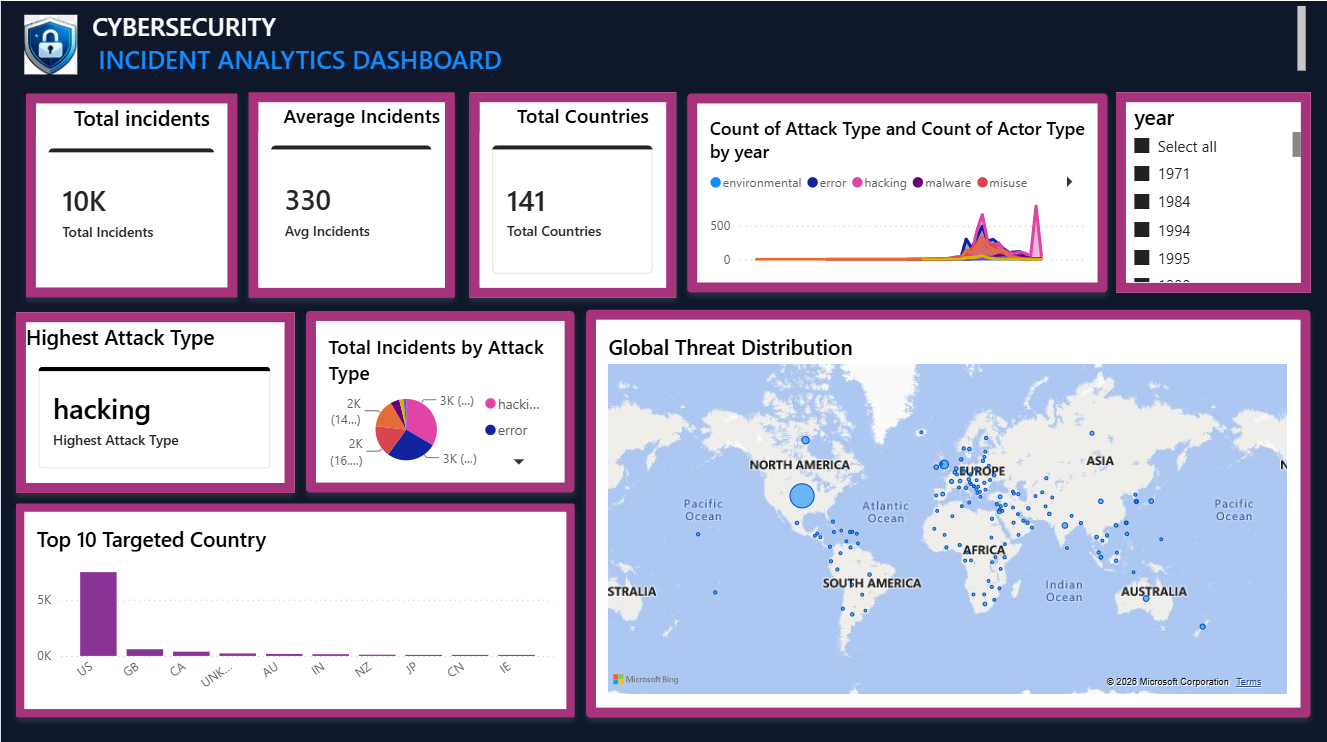

What the dashboard file says about the page in this screenshot:
{"tool":"powerbi","page":{"name":"Executive Summary","canvas":[1280,720],"ordinal":0},"visuals":[{"type":"textbox","box":[9.7,0,1254.7,74.8],"z":0},{"type":"pieChart","fields":{"Category":["result.Attack Type"],"Y":["result.Total Incidents"]},"box":[294.2,298.8,259.3,175.6],"z":1000},{"type":"clusteredColumnChart","title":"Top 10 Targeted Country","fields":{"Category":["result.Country"],"Y":["result.Total Incidents"]},"box":[14.5,485,539.3,206.3],"z":2000},{"type":"map","title":"Global Threat Distribution","fields":{"Size":["result.Total Incidents"],"Category":["result.Country"]},"box":[564.9,298.4,699.5,393.8],"z":3000},{"type":"cardVisual","title":"Total Countries","fields":{"Data":["result.Total Countries"]},"box":[452.4,88,199.3,198.1],"z":4000},{"type":"cardVisual","title":" Highest Attack Type","fields":{"Data":["result.Highest Attack Type"]},"box":[14.7,299.9,268.4,174.1],"z":5000},{"type":"areaChart","title":" Count of Attack Type and Count of Actor Type by year","fields":{"Category":["result.year"],"Series":["result.Attack Type"],"Y":["CountNonNull(result.Actor Type)"]},"box":[662.3,89.3,405.4,191.8],"z":6000},{"type":"cardVisual","title":"Average Incidents","fields":{"Data":["result.Avg Incidents"]},"box":[238.5,88,199.3,198.1],"z":7000},{"type":"cardVisual","title":"Total incidents","fields":{"Data":["result.Total Incidents"]},"box":[24.5,89.3,204.2,196.9],"z":8000},{"type":"slicer","fields":{"Values":["result.year"]},"box":[1076.1,88,188.3,193.2],"z":9000},{"type":"image","box":[14.5,13.3,67.6,57.9],"z":10000}]}

Visuals, with their boxes in screenshot pixels (x1, y1, x2, y2), scaled from the page's 1280x720 canvas onto the 1327x742 screenshot:
textbox: pyautogui.locateOnScreen(10, 0, 1311, 77)
pieChart - result.Attack Type x result.Total Incidents: pyautogui.locateOnScreen(305, 308, 574, 489)
"Top 10 Targeted Country" clusteredColumnChart: pyautogui.locateOnScreen(15, 500, 574, 712)
"Global Threat Distribution" map: pyautogui.locateOnScreen(586, 308, 1311, 713)
"Total Countries" cardVisual: pyautogui.locateOnScreen(469, 91, 676, 295)
" Highest Attack Type" cardVisual: pyautogui.locateOnScreen(15, 309, 293, 488)
" Count of Attack Type and Count of Actor Type by year" areaChart: pyautogui.locateOnScreen(687, 92, 1107, 290)
"Average Incidents" cardVisual: pyautogui.locateOnScreen(247, 91, 454, 295)
"Total incidents" cardVisual: pyautogui.locateOnScreen(25, 92, 237, 295)
slicer - result.year: pyautogui.locateOnScreen(1116, 91, 1311, 290)
image: pyautogui.locateOnScreen(15, 14, 85, 73)
